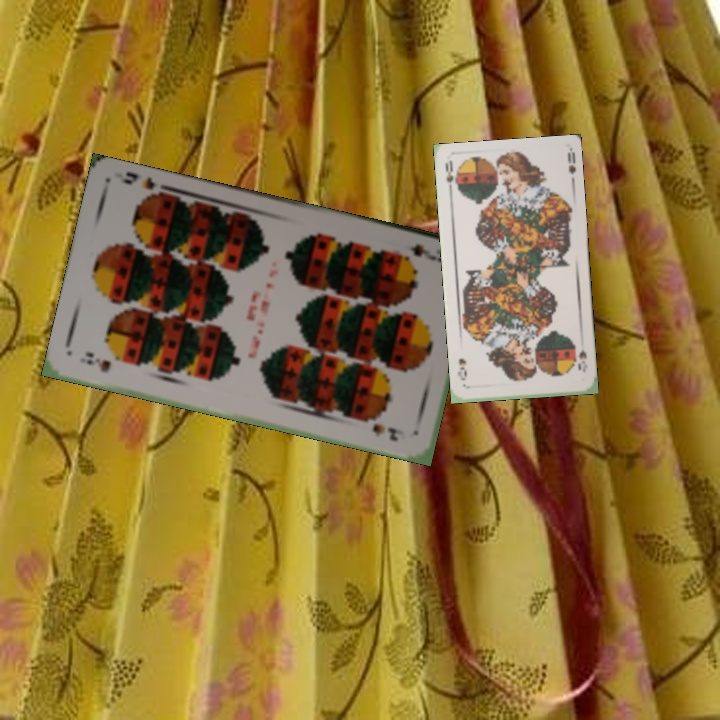S9: (406, 239, 446, 265), (81, 349, 114, 375)
SO: (441, 158, 458, 198), (571, 340, 590, 374)
